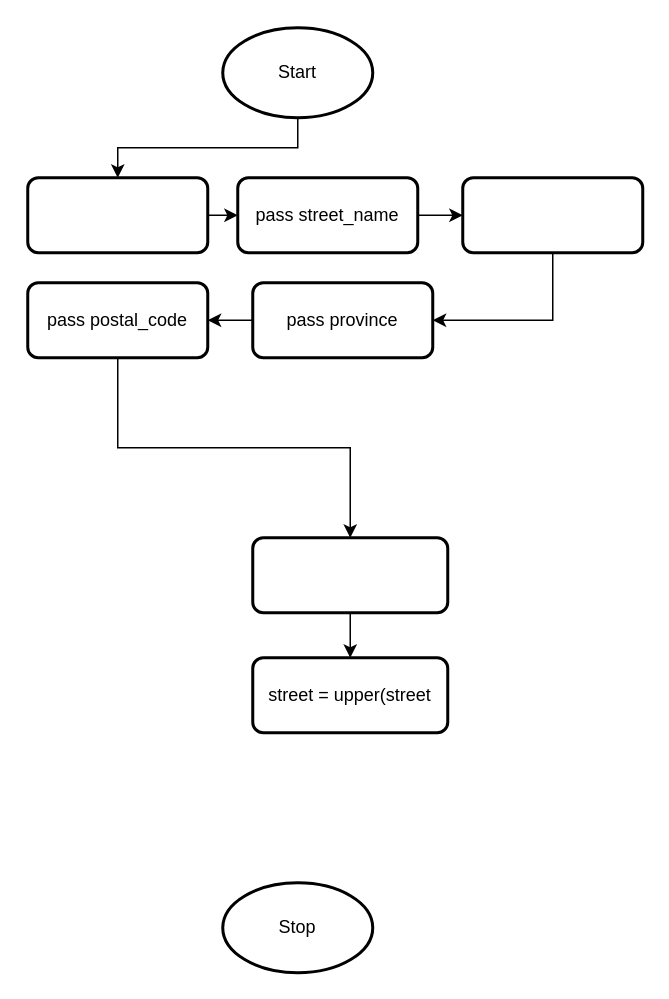
This 669x999 diagram has some shape labels left out. The box of each missing label's shape, as (x1, y1, x2, y2) in pixels:
name = upper(full_name): (250, 536, 448, 614)
pass city: (460, 176, 644, 254)
pass full_name: (26, 176, 208, 254)
